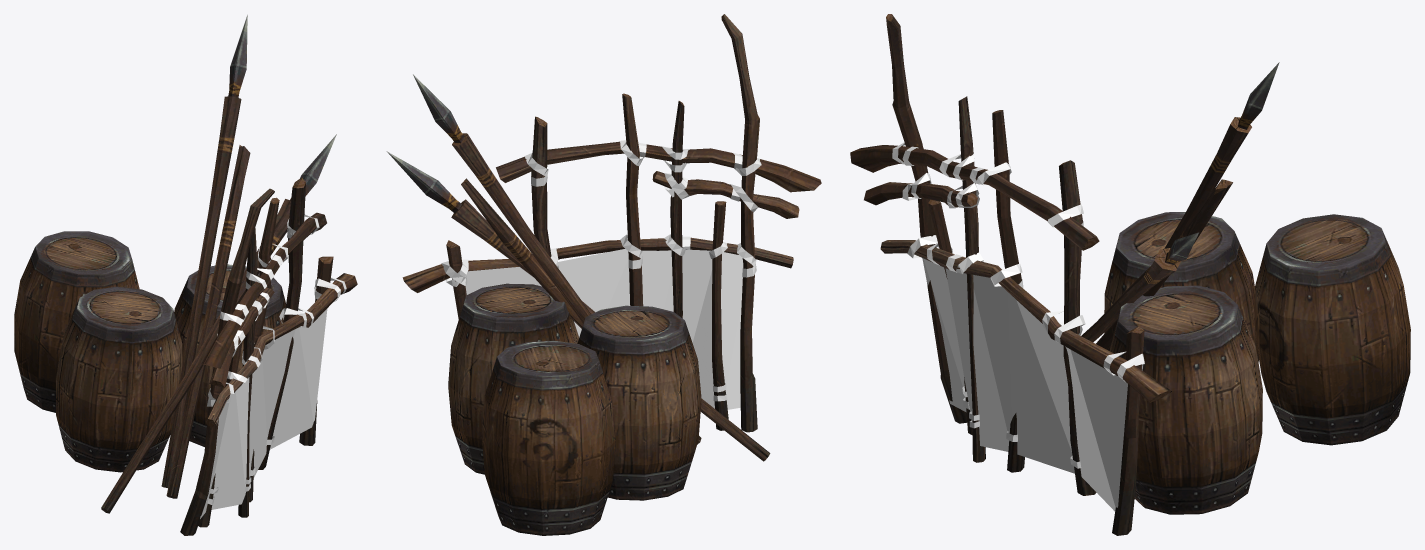
File: 4007_Item_wuqi_1.FBX
3 views of the same model, side by side, from view 1: azimuth 30°, elevation 25°; view 2: azimuth 150°, elevation 25°; view 3: azimuth 270°, elevation 25° (orthographic). The views are drawn at different scales.
Visible parts, largest first — view 1: 4007_Item_wuqi_1; view 2: 4007_Item_wuqi_1; view 3: 4007_Item_wuqi_1.
Boxes of the visible parts, x1,y1,x2,y2 form: 4007_Item_wuqi_1: (14,15,357,535); 4007_Item_wuqi_1: (386,14,821,535); 4007_Item_wuqi_1: (850,14,1410,535).
Size of the model in its own units: 23918 by 29343 by 31419.
